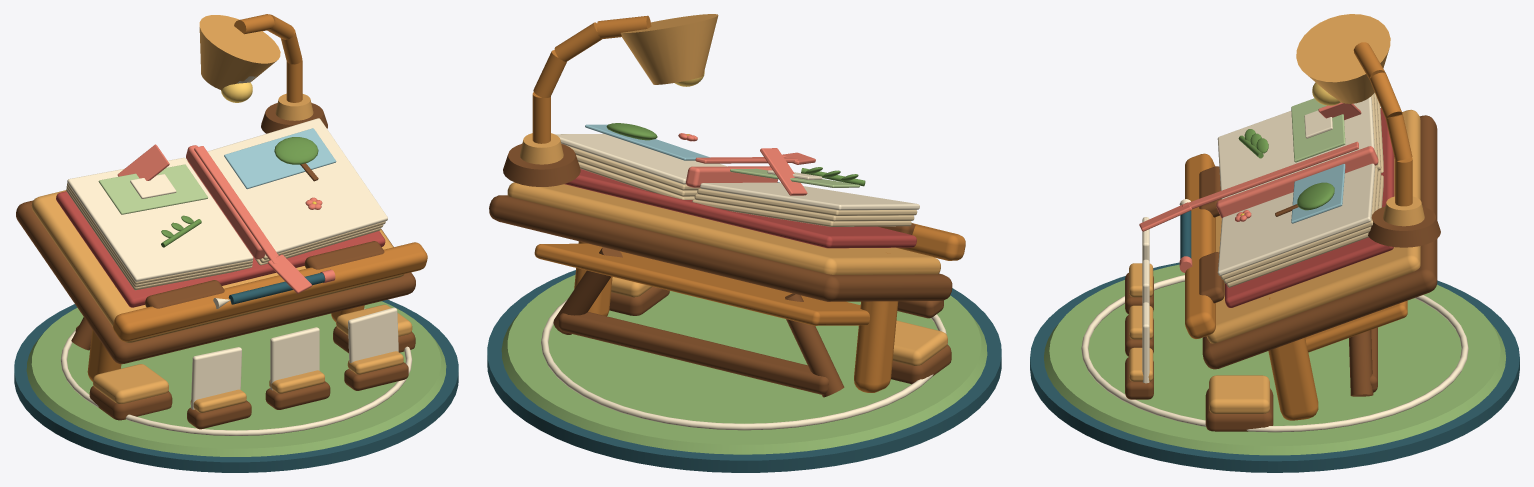
File: memory-book.glb
The picture shows the model from 3 angles, left to right: view 1: azimuth 30°, elevation 25°; view 2: azimuth 150°, elevation 25°; view 3: azimuth 270°, elevation 25°; orthographic projection. The views are drawn at different scales.
Parts seen in each view (by area): view 1: round-sage-and-deep-teal-approach-mat-with-stitched-edge-sur (×3), open-memory-book-thick-cover-layered-pages-and-center-spine- (×9), exactly-three-blank-photo-cards-in-separate-front-holders-su (×9), tilted-reading-surface-surface-0, illustrated-page-scenes-house-tree-landscape-and-flower-surf (×5), tilted-reading-surface-surface-4, warm-curved-reading-light-with-base-shade-and-visible-core-s (×4), low-honey-oak-reading-stand-board-braces-feet-and-finished-u (×5), tilted-reading-surface-surface-2, tilted-reading-surface-surface-8, tilted-reading-surface-surface-6, teal-pencil-in-front-groove-surface-0 (+2 smaller); view 2: round-sage-and-deep-teal-approach-mat-with-stitched-edge-sur (×3), low-honey-oak-reading-stand-board-braces-feet-and-finished-u (×8), open-memory-book-thick-cover-layered-pages-and-center-spine- (×11), tilted-reading-surface-surface-0, tilted-reading-surface-surface-2, warm-curved-reading-light-with-base-shade-and-visible-core-s (×3), illustrated-page-scenes-house-tree-landscape-and-flower-surf (×4), left-rear-diagonal-brace-surface-0, tilted-reading-surface-surface-4, right-rear-diagonal-brace-surface-0, curved-lamp-arm-3-surface-0, curved-lamp-arm-1-surface-0 (+3 smaller); view 3: round-sage-and-deep-teal-approach-mat-with-stitched-edge-sur (×3), open-memory-book-thick-cover-layered-pages-and-center-spine- (×9), tilted-reading-surface-surface-0, warm-curved-reading-light-with-base-shade-and-visible-core-s (×3), low-honey-oak-reading-stand-board-braces-feet-and-finished-u (×4), tilted-reading-surface-surface-2, illustrated-page-scenes-house-tree-landscape-and-flower-surf (×4), tilted-reading-surface-surface-4, exactly-three-blank-photo-cards-in-separate-front-holders-su (×5), right-rear-diagonal-brace-surface-0, tilted-reading-surface-surface-8, curved-lamp-arm-1-surface-0 (+5 smaller).
Boxes of the visible parts, bbox=[...] form: round-sage-and-deep-teal-approach-mat-with-stitched-edge-sur (×3): bbox=[14, 299, 458, 472]; open-memory-book-thick-cover-layered-pages-and-center-spine- (×9): bbox=[56, 118, 387, 307]; exactly-three-blank-photo-cards-in-separate-front-holders-su (×9): bbox=[187, 307, 408, 429]; tilted-reading-surface-surface-0: bbox=[16, 200, 415, 364]; illustrated-page-scenes-house-tree-landscape-and-flower-surf (×5): bbox=[98, 128, 336, 214]; tilted-reading-surface-surface-4: bbox=[113, 242, 427, 341]; warm-curved-reading-light-with-base-shade-and-visible-core-s (×4): bbox=[199, 15, 327, 133]; low-honey-oak-reading-stand-board-braces-feet-and-finished-u (×5): bbox=[87, 286, 415, 420]; tilted-reading-surface-surface-2: bbox=[31, 160, 404, 342]; tilted-reading-surface-surface-8: bbox=[304, 241, 384, 269]; tilted-reading-surface-surface-6: bbox=[145, 280, 224, 308]; teal-pencil-in-front-groove-surface-0: bbox=[228, 272, 324, 304]; round-sage-and-deep-teal-approach-mat-with-stitched-edge-sur (×3): bbox=[487, 270, 1001, 472]; low-honey-oak-reading-stand-board-braces-feet-and-finished-u (×8): bbox=[534, 241, 951, 394]; open-memory-book-thick-cover-layered-pages-and-center-spine- (×11): bbox=[555, 133, 919, 248]; tilted-reading-surface-surface-0: bbox=[489, 195, 952, 301]; tilted-reading-surface-surface-2: bbox=[507, 182, 940, 274]; warm-curved-reading-light-with-base-shade-and-visible-core-s (×3): bbox=[503, 14, 718, 186]; illustrated-page-scenes-house-tree-landscape-and-flower-surf (×4): bbox=[585, 123, 859, 195]; left-rear-diagonal-brace-surface-0: bbox=[785, 293, 844, 397]; tilted-reading-surface-surface-4: bbox=[896, 223, 965, 260]; right-rear-diagonal-brace-surface-0: bbox=[553, 247, 622, 334]; curved-lamp-arm-3-surface-0: bbox=[554, 22, 601, 61]; curved-lamp-arm-1-surface-0: bbox=[532, 92, 550, 143]; round-sage-and-deep-teal-approach-mat-with-stitched-edge-sur (×3): bbox=[1030, 262, 1519, 472]; open-memory-book-thick-cover-layered-pages-and-center-spine- (×9): bbox=[1139, 96, 1394, 307]; tilted-reading-surface-surface-0: bbox=[1202, 115, 1437, 369]; warm-curved-reading-light-with-base-shade-and-visible-core-s (×3): bbox=[1296, 14, 1440, 247]; low-honey-oak-reading-stand-board-braces-feet-and-finished-u (×4): bbox=[1205, 297, 1407, 431]; tilted-reading-surface-surface-2: bbox=[1206, 109, 1420, 343]; illustrated-page-scenes-house-tree-landscape-and-flower-surf (×4): bbox=[1291, 98, 1345, 223]; tilted-reading-surface-surface-4: bbox=[1185, 153, 1215, 338]; exactly-three-blank-photo-cards-in-separate-front-holders-su (×5): bbox=[1125, 263, 1153, 399]; right-rear-diagonal-brace-surface-0: bbox=[1349, 330, 1373, 396]; tilted-reading-surface-surface-8: bbox=[1199, 252, 1224, 303]; curved-lamp-arm-1-surface-0: bbox=[1395, 157, 1412, 206].
Bounding box in the file's own units: 1.74 × 1.4 × 1.74.
